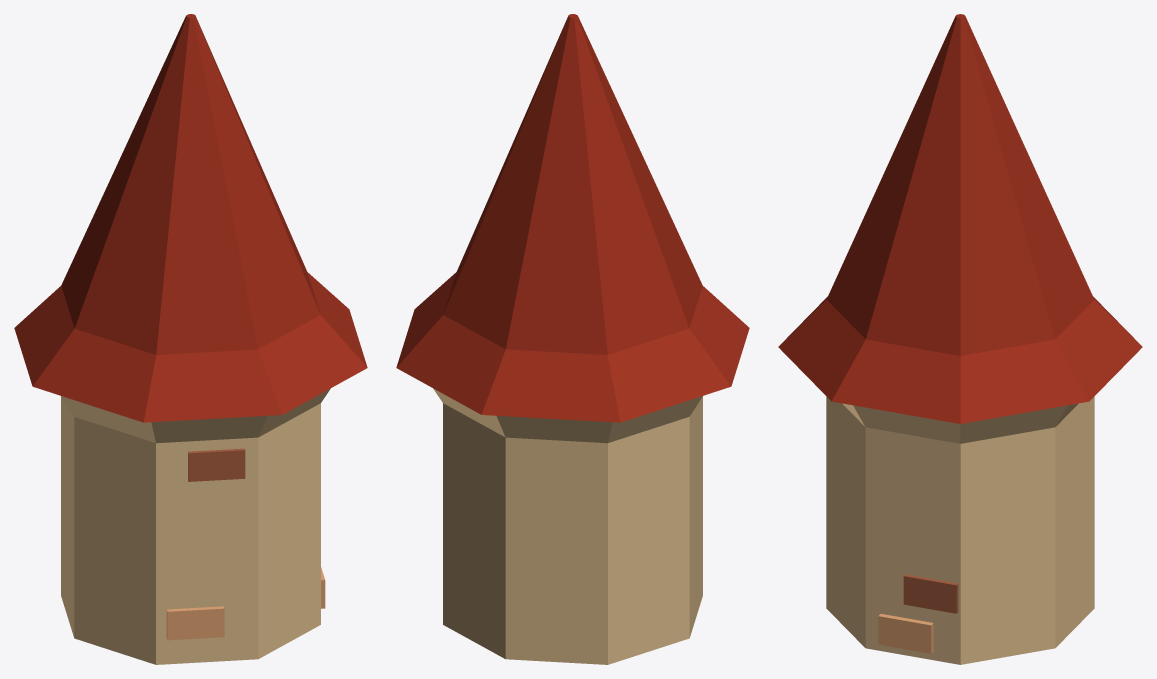
The model's file is Tower_1.glb.
The picture shows the model from 3 angles, left to right: view 1: azimuth 30°, elevation 25°; view 2: azimuth 150°, elevation 25°; view 3: azimuth 270°, elevation 25°; orthographic projection.
Visible parts, largest first — view 1: Tower_1; view 2: Tower_1; view 3: Tower_1.
Boxes of the visible parts, x1,y1,x2,y2 form: Tower_1: (14,14,367,664); Tower_1: (396,14,749,664); Tower_1: (778,14,1142,664).
Size of the model in its own units: 1.66 by 2.97 by 1.66.
